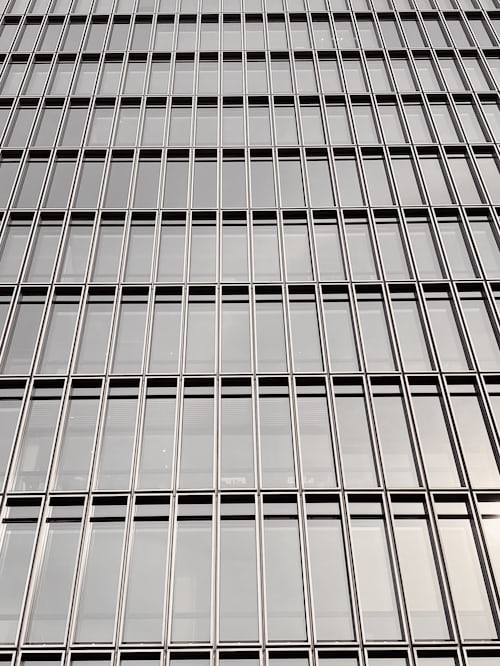glass panel: (0, 498, 492, 665), (439, 518, 496, 638), (395, 518, 448, 639), (26, 522, 79, 642), (352, 518, 400, 639), (75, 522, 123, 642), (307, 516, 353, 639), (123, 520, 167, 641), (264, 516, 305, 640), (12, 388, 60, 492), (171, 520, 212, 641), (451, 386, 499, 487), (219, 516, 258, 640), (412, 386, 459, 486), (54, 388, 98, 490), (373, 387, 418, 486), (96, 387, 137, 489), (0, 523, 35, 642), (335, 387, 376, 486), (137, 387, 175, 488), (297, 387, 335, 487), (220, 387, 254, 488), (259, 392, 294, 487), (179, 394, 214, 488), (1, 296, 43, 373), (38, 295, 78, 373), (426, 294, 467, 370), (392, 294, 431, 371), (461, 293, 499, 370), (75, 296, 112, 373), (323, 295, 359, 371), (358, 296, 394, 371), (112, 296, 147, 373), (289, 295, 322, 371), (149, 295, 180, 372), (221, 295, 250, 372), (256, 299, 286, 371), (185, 300, 215, 372), (0, 385, 21, 487), (25, 224, 60, 282), (408, 222, 443, 280), (439, 222, 475, 278), (58, 224, 91, 282), (314, 221, 345, 281), (345, 223, 377, 280), (377, 223, 409, 279), (92, 224, 123, 281), (124, 224, 154, 281), (0, 224, 29, 282), (448, 156, 483, 204), (471, 220, 499, 278), (13, 158, 46, 207), (157, 224, 185, 281), (420, 156, 453, 204), (253, 223, 280, 281), (189, 224, 216, 281), (73, 158, 103, 208), (221, 224, 247, 281), (363, 158, 393, 205), (306, 158, 334, 208), (133, 159, 161, 209), (103, 159, 131, 207), (3, 107, 36, 147), (163, 159, 189, 208), (481, 515, 499, 584), (31, 105, 61, 146), (279, 158, 304, 207), (192, 159, 217, 208), (250, 159, 275, 207), (221, 159, 246, 207), (59, 105, 87, 146), (430, 102, 458, 142), (457, 103, 485, 142), (404, 103, 432, 142), (477, 155, 499, 203), (352, 104, 378, 143), (415, 56, 443, 92), (327, 104, 352, 144), (22, 60, 50, 95), (114, 106, 138, 145), (439, 57, 467, 90), (141, 106, 164, 146), (274, 105, 297, 145), (168, 106, 191, 145), (221, 106, 244, 145), (47, 60, 73, 94), (0, 158, 18, 207), (248, 105, 270, 145), (367, 57, 392, 92), (195, 106, 217, 145), (0, 62, 26, 95), (222, 106, 244, 145), (122, 60, 146, 94), (294, 57, 316, 93), (343, 58, 366, 92), (198, 59, 219, 95), (148, 58, 169, 94), (468, 18, 494, 47), (379, 17, 403, 48), (247, 58, 268, 93), (446, 17, 470, 47), (60, 21, 84, 51), (107, 19, 129, 51), (222, 59, 242, 94), (129, 19, 151, 50), (482, 101, 499, 141), (15, 22, 39, 50), (153, 17, 173, 50), (84, 21, 106, 51), (290, 20, 311, 50), (268, 17, 287, 50), (245, 18, 264, 50), (0, 21, 18, 51), (200, 20, 218, 50), (177, 21, 195, 50), (269, 652, 308, 665), (417, 653, 457, 665), (318, 653, 358, 665), (0, 292, 11, 335), (8, 0, 29, 15), (29, 0, 50, 14)
